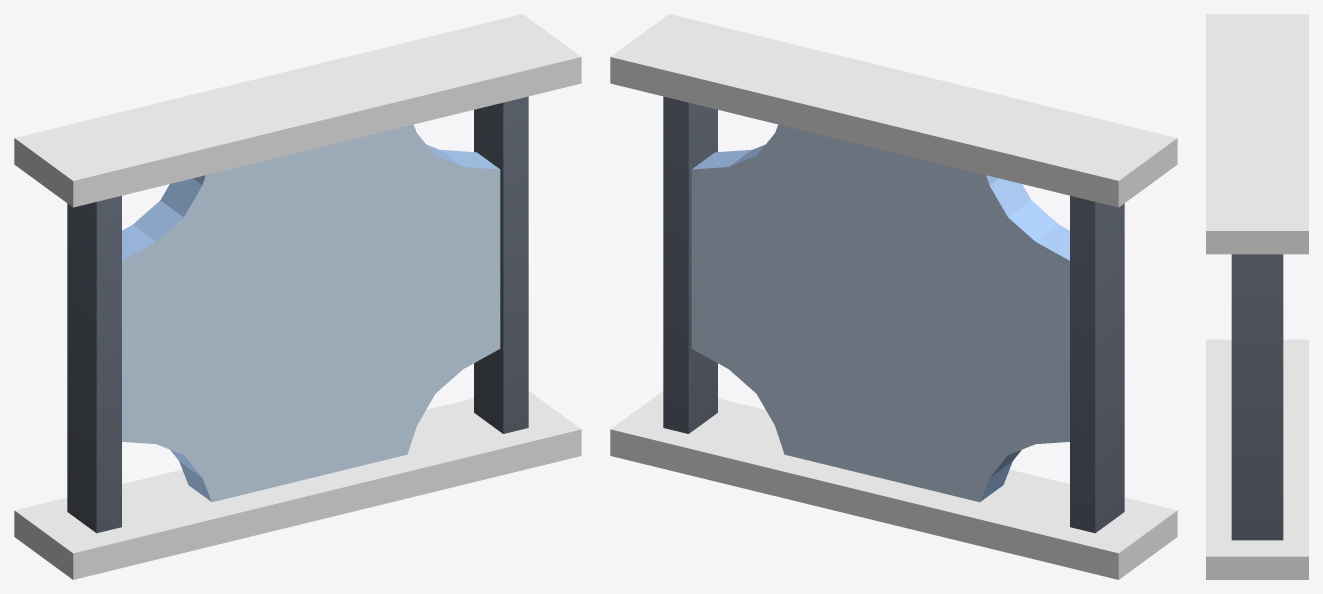
File: Glass_Railing_2.fbx
3 views of the same model, side by side, from view 1: azimuth 30°, elevation 25°; view 2: azimuth 150°, elevation 25°; view 3: azimuth 270°, elevation 25° (orthographic). The views are drawn at different scales.
Parts seen in each view (by area): view 1: Cube.077; view 2: Cube.077; view 3: Cube.077.
Boxes of the visible parts, <box> form: Cube.077: <box>14,14,581,579</box>; Cube.077: <box>610,14,1177,579</box>; Cube.077: <box>1206,14,1308,579</box>.
Size of the model in its own units: 100 by 75 by 20.
